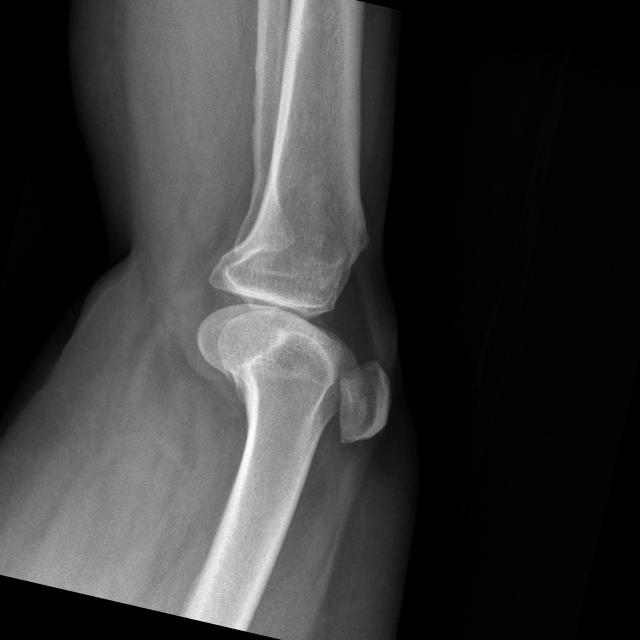Knee: (174, 234, 418, 456)
